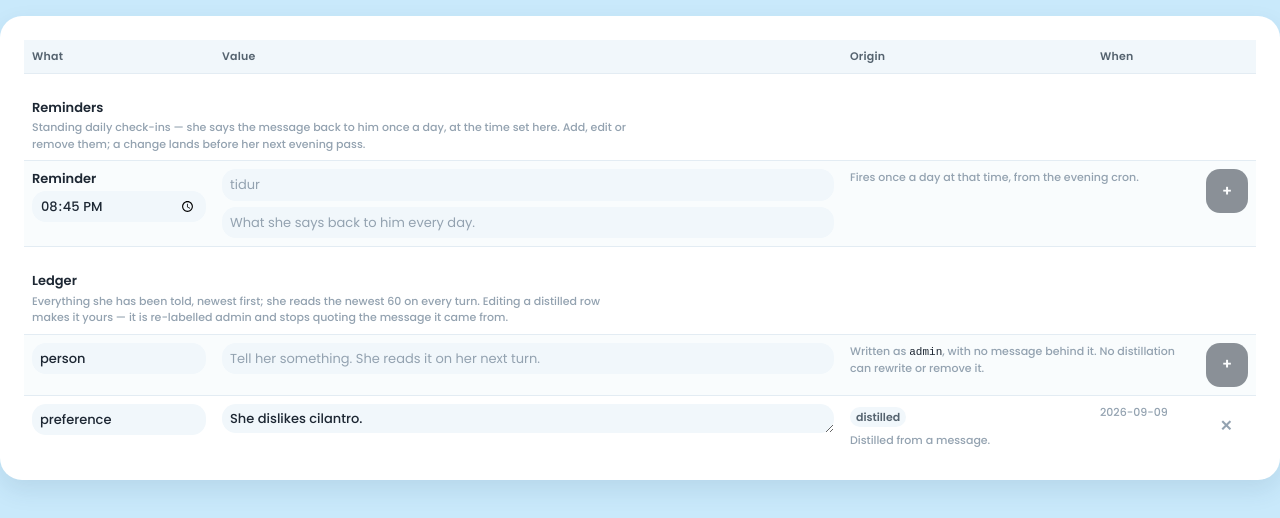
Test: MemoryTable — ledger rows › refuses an emptied ledger row locally
Clear the text box named "Ledger row text" at (528, 418), box [222,404,834,433]
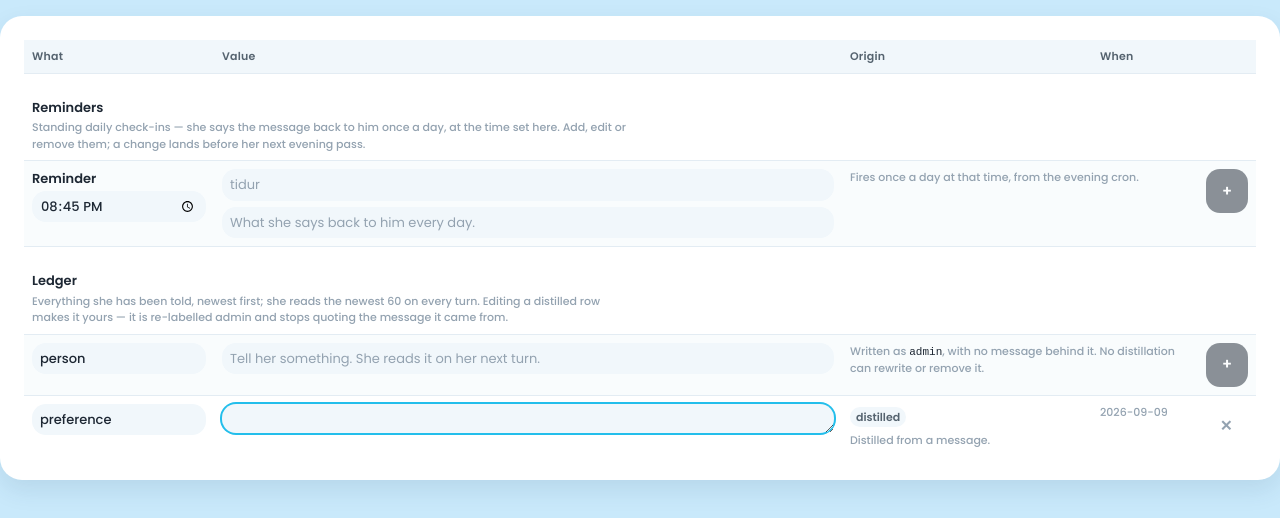
Leave the text box named "Ledger row text", box [222,404,834,433]
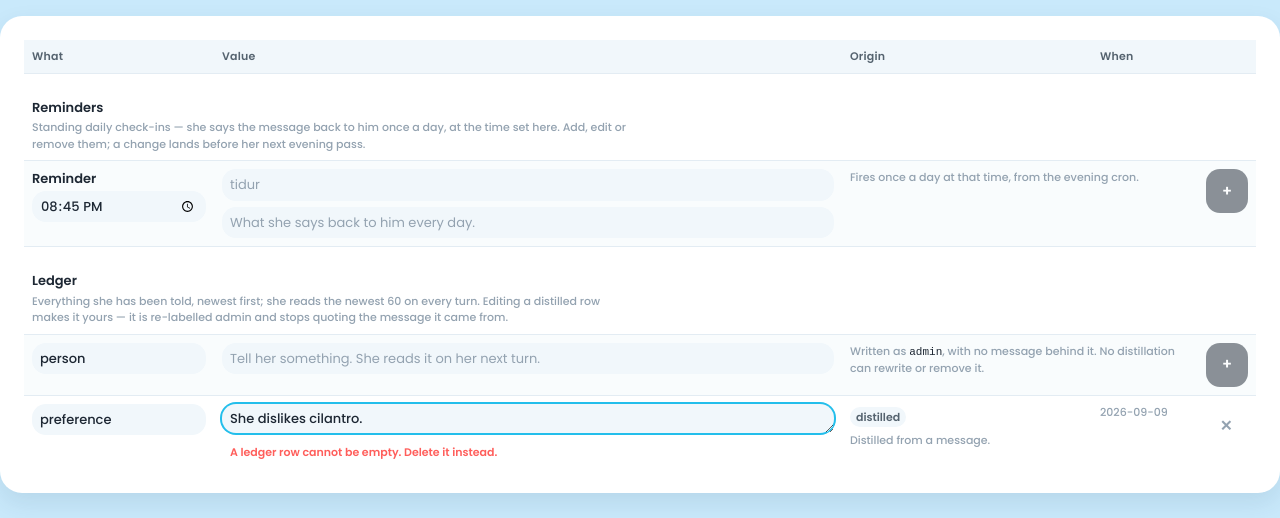
Check: the text "A ledger row cannot be empty. Delete it instead." is shown, box [230,444,497,460]
